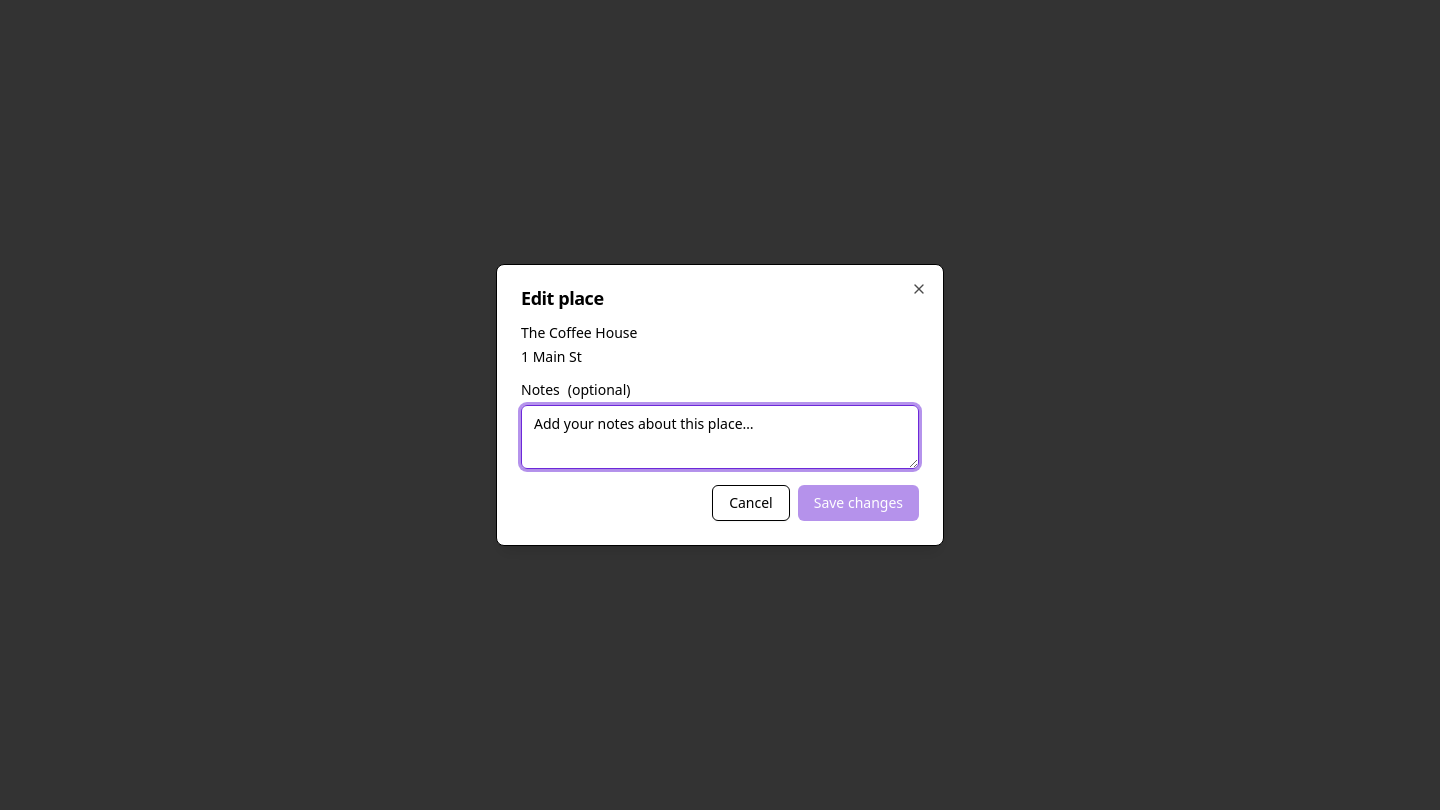
Scenario: EditPlaceDialog (places page) › shows Unsaved changes badge when form is dirty
Type "x" into the text box labelled "Notes (optional)". click: [720, 437]
box: [521,405,919,469]
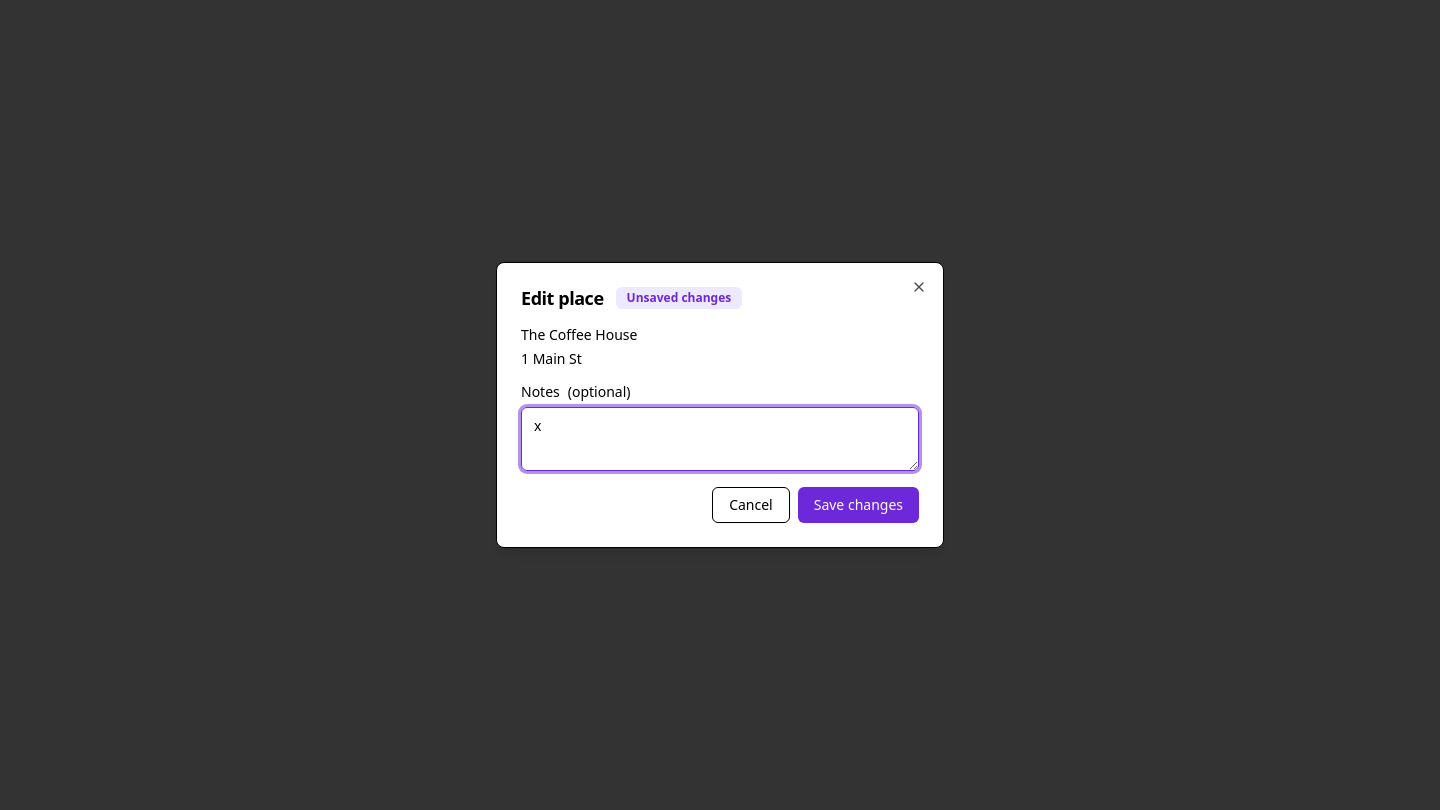
Now the text "Unsaved changes" is shown, box [616,287,742,309]
